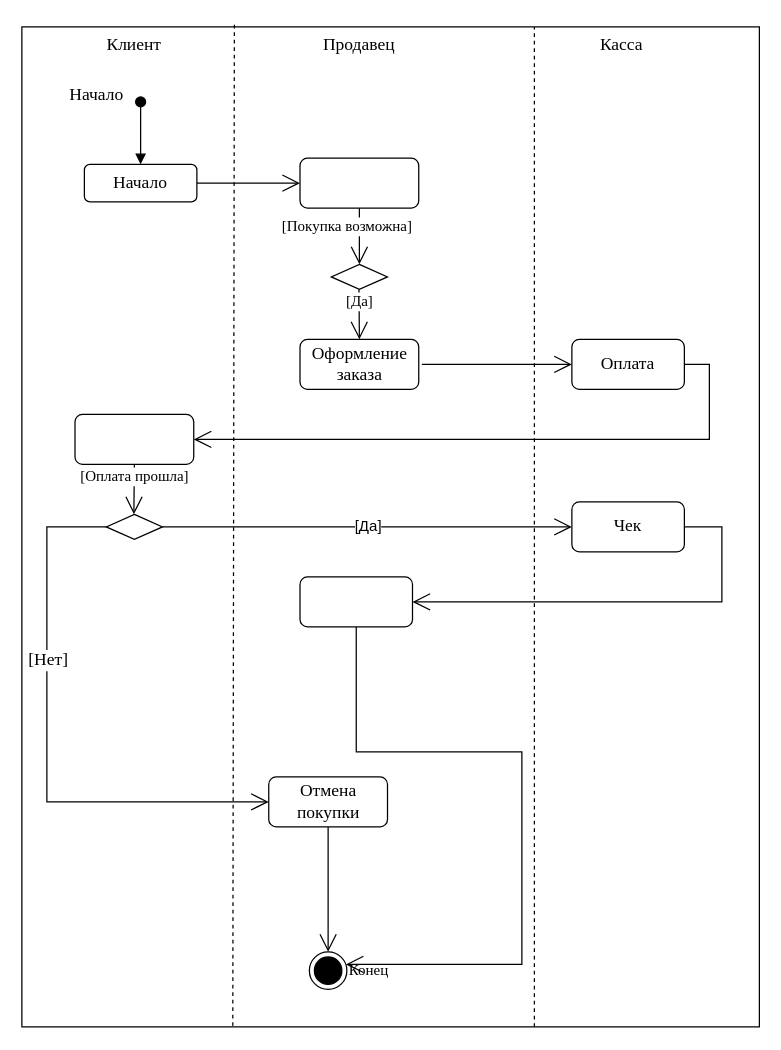
The diagram is 781 pixels wide and 1050 high, and some of its shapes have lost their labels. Here are the shapes that lost their labels. From the top down, the centre of each, then its label:
pixel 359 182: Определение наличия игры
pixel 134 438: Оплата игры
pixel 355 601: Выдача игры
